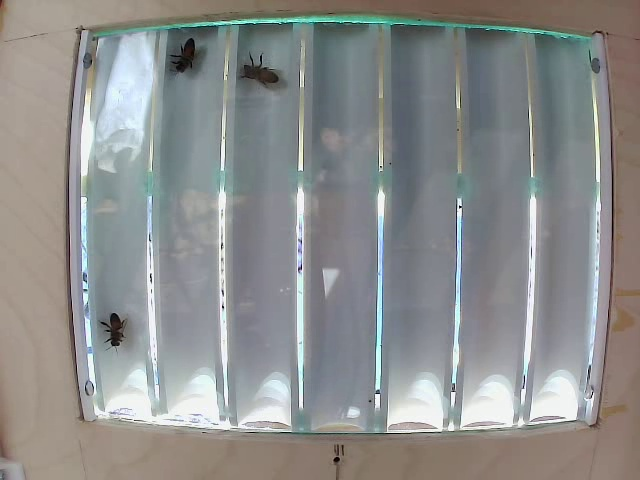bee: (235, 54, 288, 102), (100, 304, 142, 351), (179, 51, 213, 100)
